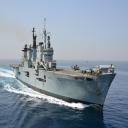Portanaves: (10, 13, 119, 113)
